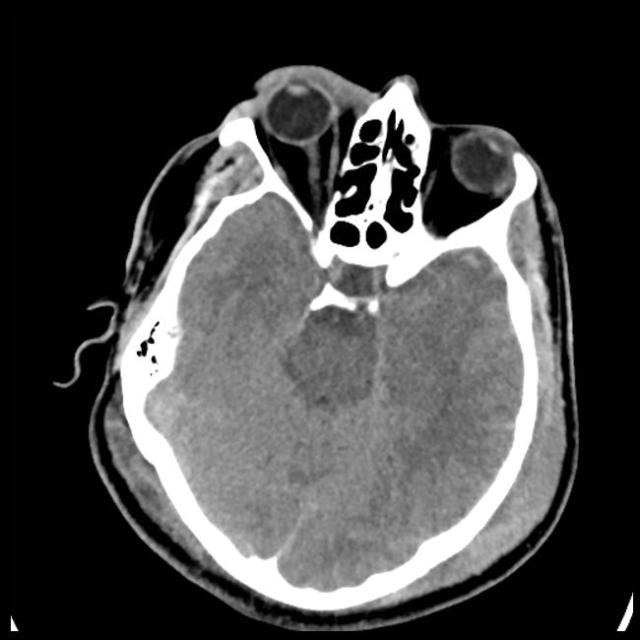lesion: (67, 62, 584, 628)
